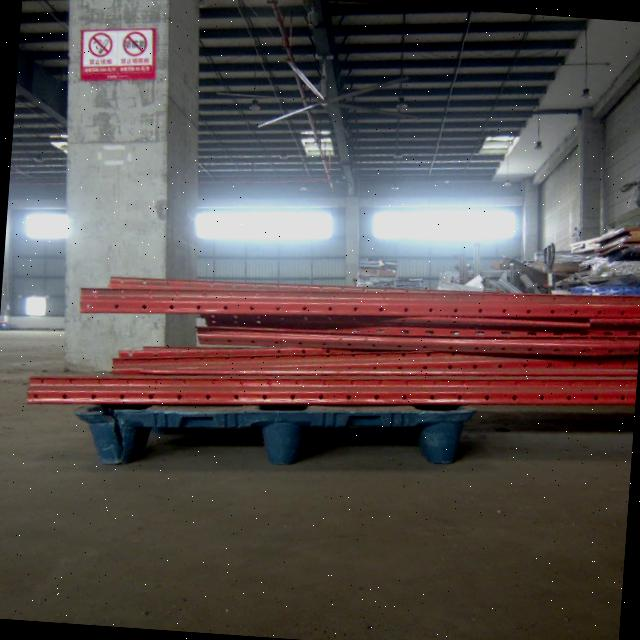block: (82, 412, 153, 462), (415, 414, 478, 467), (254, 413, 305, 460)
front: (81, 414, 480, 464)
hole pallet: (134, 424, 267, 466), (295, 424, 424, 463)
